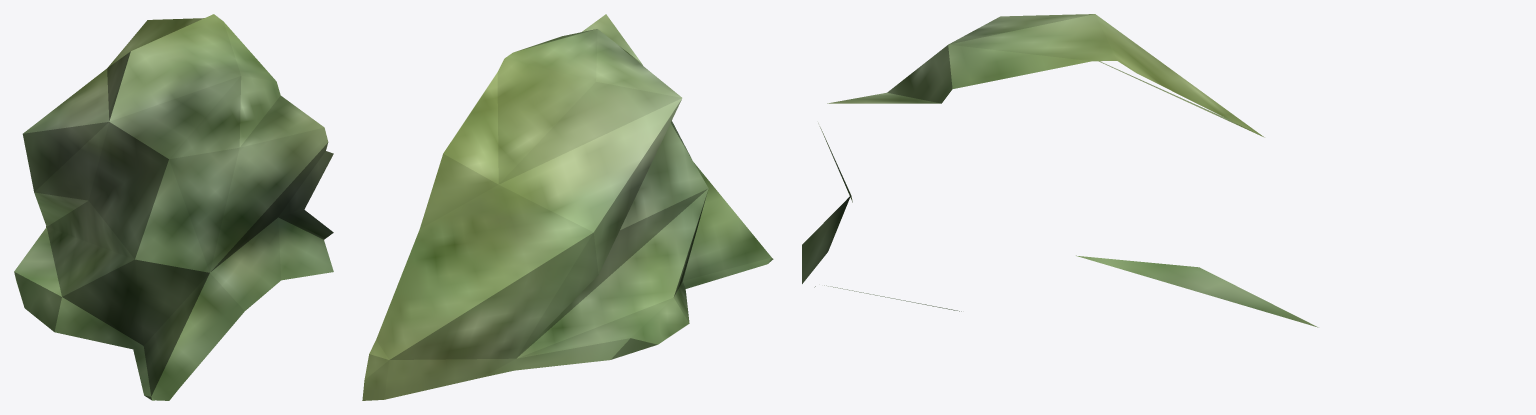
The picture shows the model from 3 angles, left to right: view 1: azimuth 30°, elevation 25°; view 2: azimuth 150°, elevation 25°; view 3: azimuth 270°, elevation 25°; orthographic projection. The views are drawn at different scales.
Size of the model in its own units: 3.16 by 4.34 by 8.32.
Materials: 1 (1 with a texture image).
